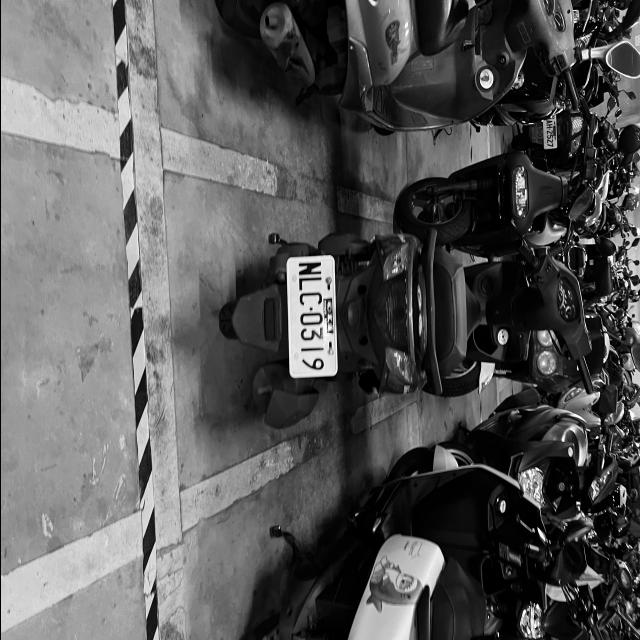-: (306, 306, 314, 310), (548, 128, 550, 130)
0: (300, 312, 322, 326)
1: (300, 346, 324, 354)
2: (546, 139, 552, 143), (546, 130, 552, 134)
3: (300, 326, 324, 342)
5: (546, 135, 552, 139)
7: (546, 143, 553, 147)
9: (302, 356, 324, 369)
A: (546, 120, 552, 124)
C: (298, 292, 324, 306)
H: (546, 124, 552, 128)
L: (298, 276, 322, 290)
N: (297, 259, 323, 275)
plate: (290, 258, 334, 376)
